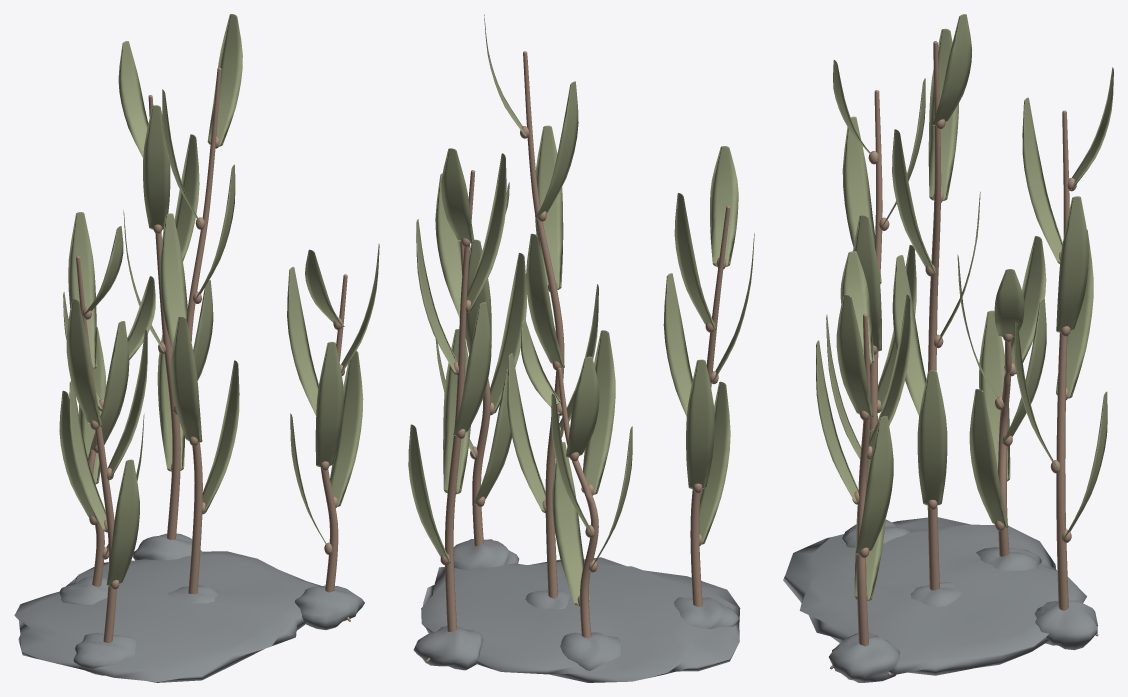
File: kelp_cluster.glb
The picture shows the model from 3 angles, left to right: view 1: azimuth 30°, elevation 25°; view 2: azimuth 150°, elevation 25°; view 3: azimuth 270°, elevation 25°; orthographic projection. The views are drawn at different scales.
Parts seen in each view (by area): view 1: kelp-forest-cluster; view 2: kelp-forest-cluster; view 3: kelp-forest-cluster.
Part boxes in pixels (x1,y1,x2,y2): kelp-forest-cluster: (14, 14, 379, 682); kelp-forest-cluster: (408, 14, 754, 682); kelp-forest-cluster: (783, 14, 1113, 682).
Bounding box in the file's own units: 3.4 × 6 × 2.82.
